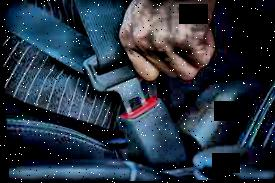seatbelt: (4, 1, 205, 174)
